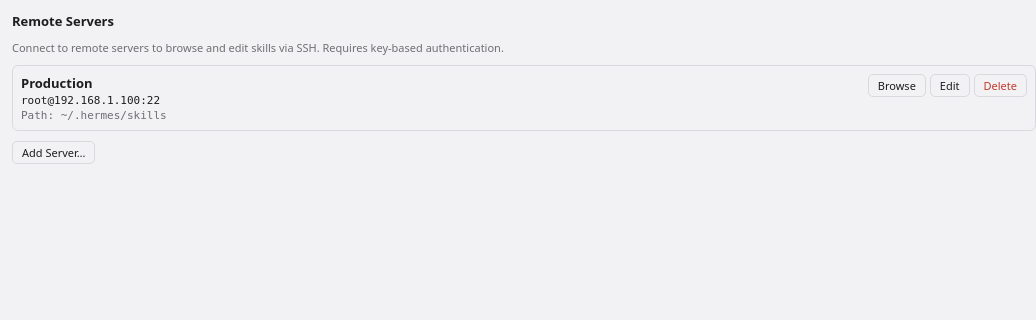
it: RemoteServersPanel (T16 part B) › browses remote skills and installs one through the SSH bridge
Expected: the text "Production" is shown, [21,74,92,92]
Click the button with aria-label "Browse Production".
click(897, 86)  # box [868,74,926,97]
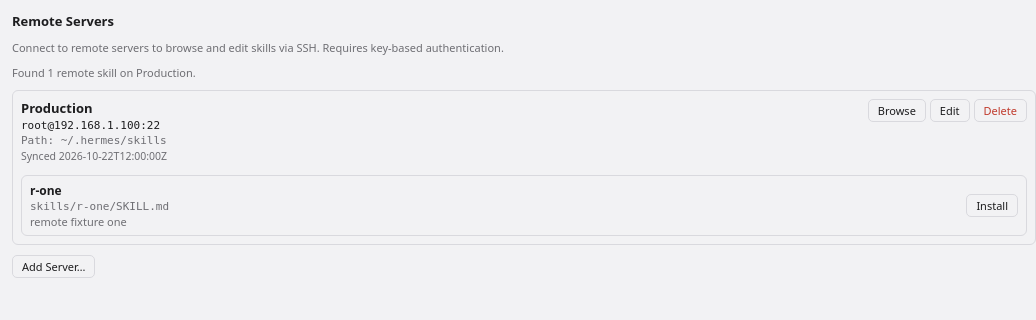
Expected: the text "r-one" is shown, [30,182,62,199]
Expected: the text "skills/r-one/SKILL.md" is shown, [30,200,169,213]
Expected: the text "Found 1 remote skill on Production." is shown, [12,65,196,80]
Click the button with aria-label "Install r-one".
click(992, 206)  # box [966,194,1018,217]
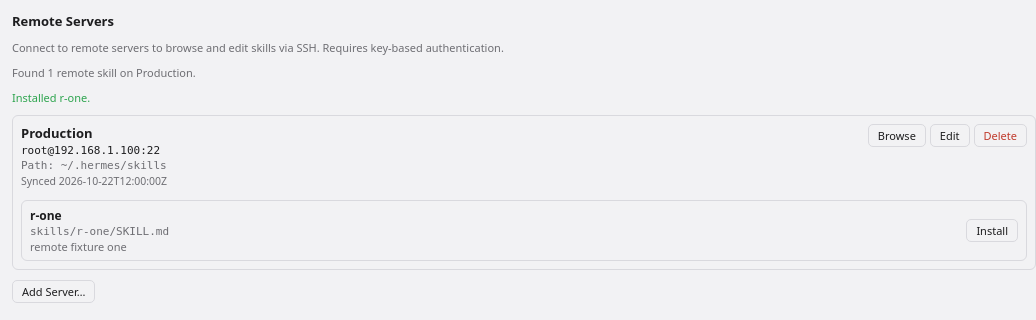
Expected: the text "Installed r-one." is shown, [12,90,90,105]
